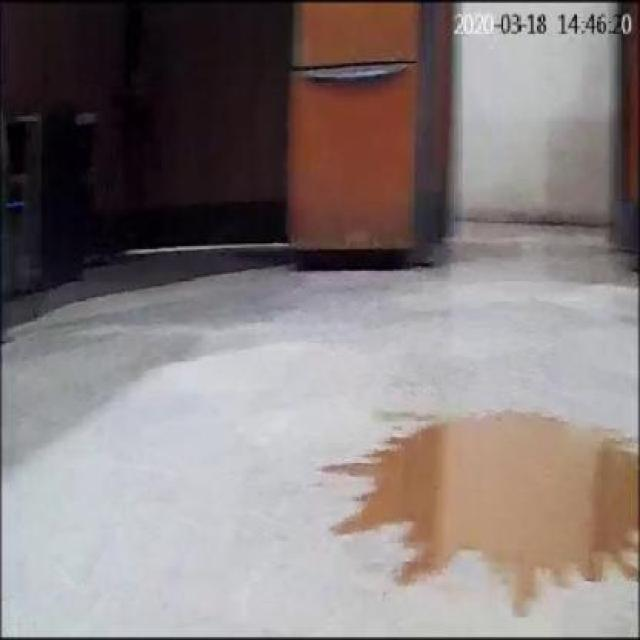spillage: (333, 412, 637, 616)
